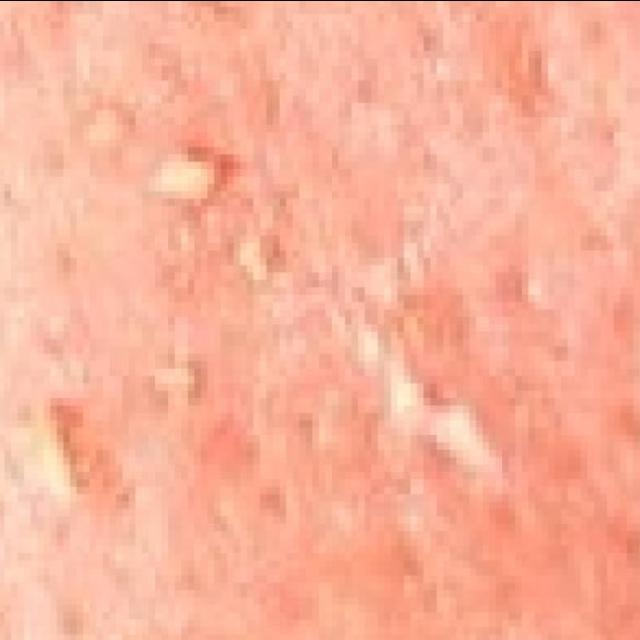whitehead: (25, 89, 567, 510)
